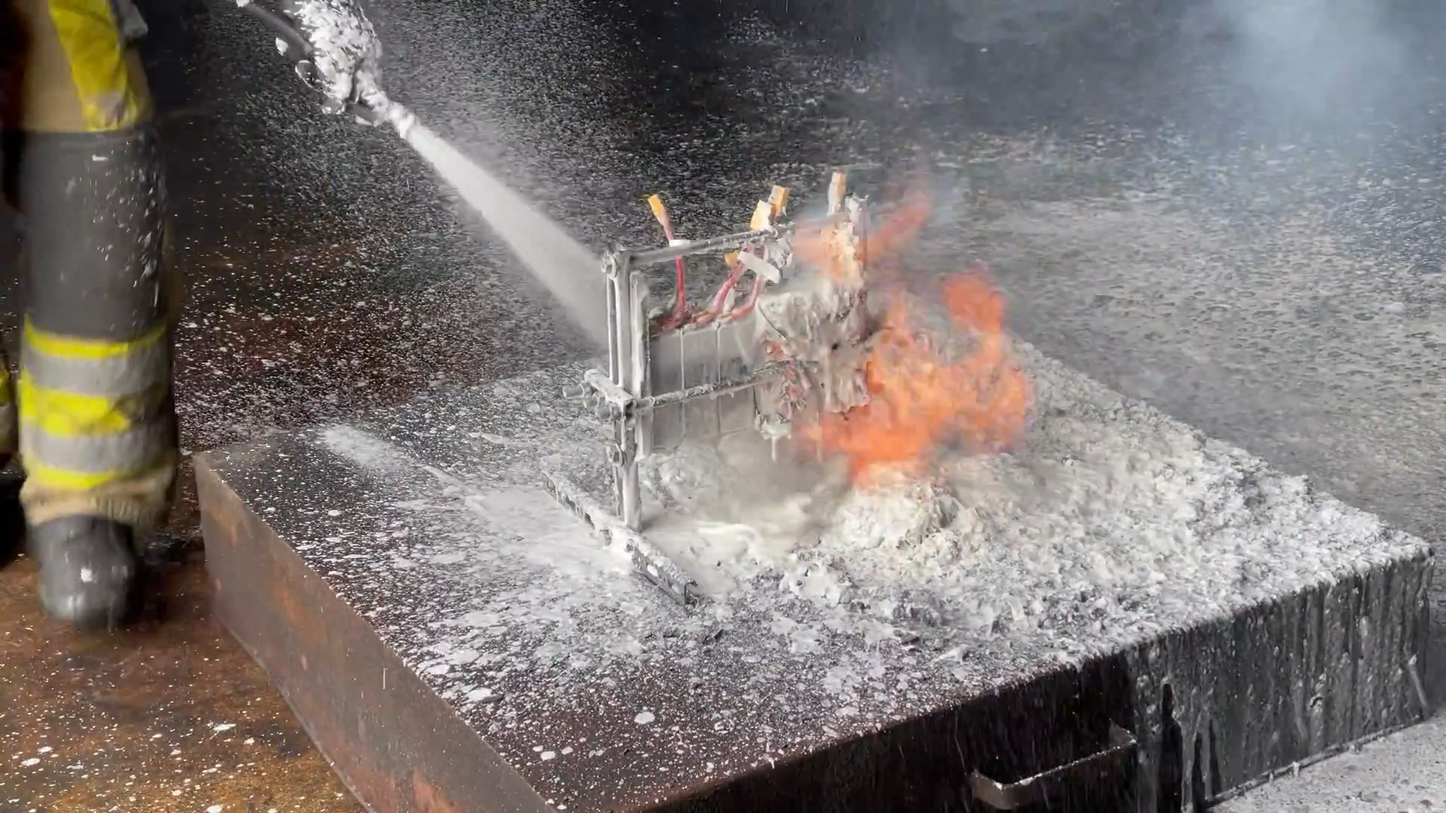fire: (782, 187, 1036, 493)
smoke: (869, 1, 1414, 273)
